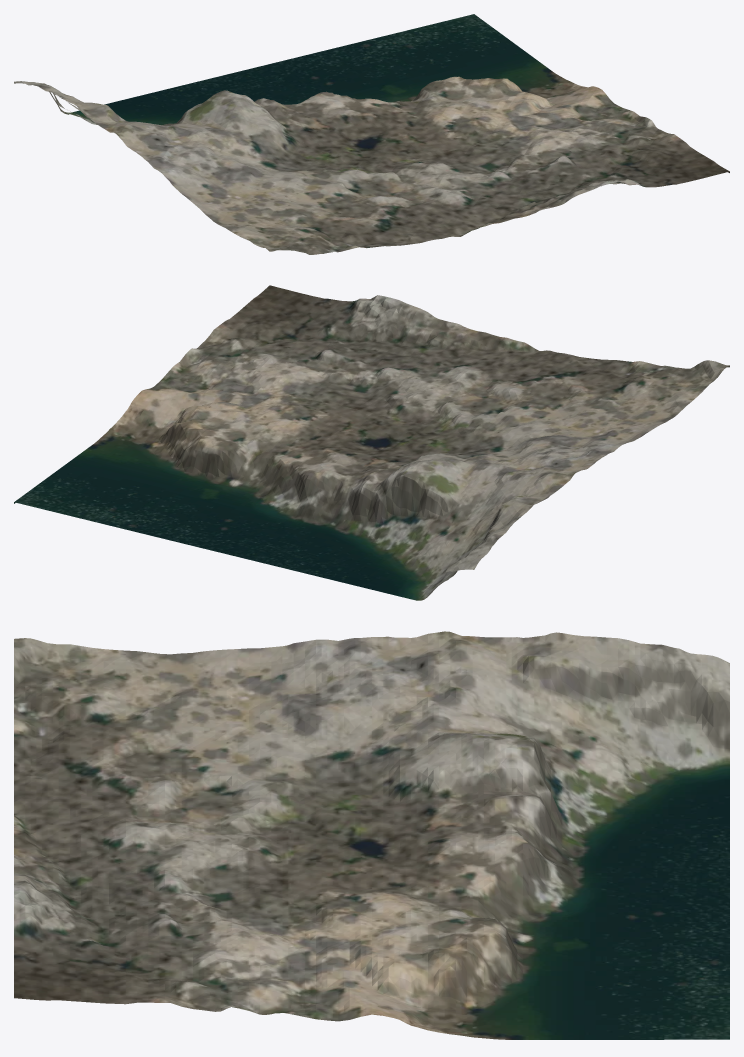
3 renders of one model, top to bottom at view 1: azimuth 30°, elevation 25°; view 2: azimuth 150°, elevation 25°; view 3: azimuth 270°, elevation 25°, orthographic. The views are drawn at different scales.
Size of the model in its own units: 250 by 35.98 by 241.
1 material, 1 textured.
